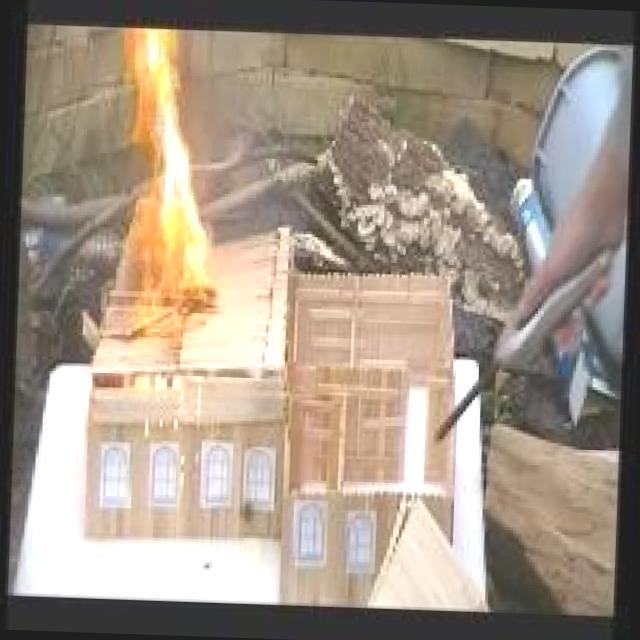fire: (73, 24, 266, 330)
